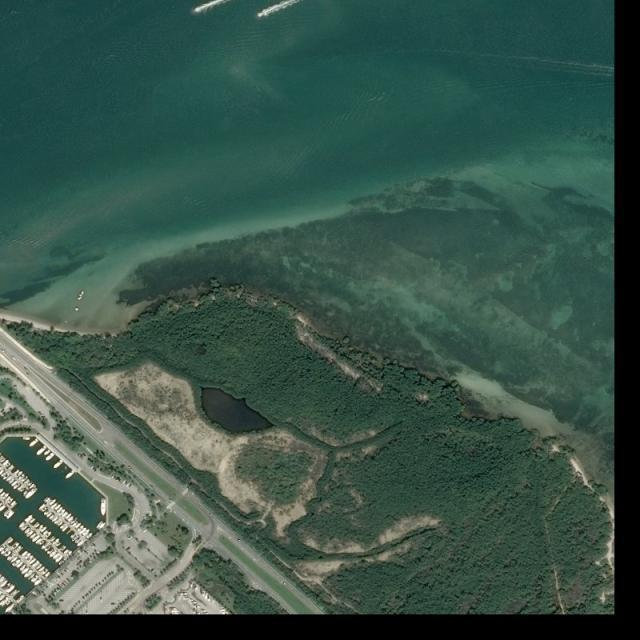ship: (26, 487, 38, 499), (36, 444, 46, 456), (5, 602, 14, 613), (1, 595, 9, 607), (6, 585, 15, 594), (101, 499, 106, 515), (24, 568, 32, 578), (1, 579, 9, 589), (49, 548, 57, 558), (29, 438, 38, 446), (16, 561, 24, 570), (10, 555, 18, 564), (7, 553, 15, 562), (1, 546, 9, 555), (16, 594, 24, 603), (24, 552, 32, 561), (58, 557, 67, 565), (66, 470, 74, 478), (34, 578, 42, 586), (13, 558, 21, 566), (21, 550, 29, 558), (77, 538, 85, 546), (60, 523, 68, 531), (46, 453, 55, 460), (1, 544, 8, 553), (31, 574, 38, 583), (32, 560, 41, 567), (15, 544, 22, 553), (54, 460, 62, 467), (26, 554, 33, 562), (33, 535, 41, 542), (54, 518, 62, 525), (6, 476, 14, 483), (6, 461, 13, 469), (3, 472, 10, 480), (2, 492, 10, 499), (30, 557, 36, 566), (22, 567, 29, 574), (38, 566, 45, 573), (55, 555, 62, 562), (42, 543, 49, 550), (36, 538, 43, 545), (19, 522, 26, 529), (39, 504, 46, 511), (83, 529, 90, 536), (51, 502, 58, 509), (16, 471, 23, 478), (8, 464, 15, 471), (26, 530, 34, 536), (55, 502, 61, 510), (21, 476, 29, 482), (44, 449, 50, 456), (42, 568, 48, 575), (36, 563, 42, 570), (54, 553, 60, 560), (48, 547, 54, 554), (25, 528, 32, 534), (53, 538, 59, 545), (80, 527, 86, 534), (13, 483, 20, 489), (70, 533, 78, 538), (72, 521, 80, 526), (50, 498, 55, 506), (193, 8, 199, 14), (30, 532, 36, 538), (64, 549, 70, 555), (72, 535, 78, 541), (52, 516, 58, 522), (49, 514, 55, 520), (75, 523, 81, 529), (71, 518, 77, 524), (68, 516, 74, 522), (29, 482, 35, 488), (24, 478, 30, 484), (12, 480, 18, 486), (14, 469, 20, 475), (46, 531, 51, 538), (41, 526, 46, 533), (86, 533, 93, 538), (18, 474, 26, 478), (22, 524, 27, 530), (66, 550, 72, 555), (58, 520, 63, 526), (45, 510, 51, 515), (78, 526, 83, 532), (62, 511, 67, 517), (60, 509, 66, 514), (57, 507, 62, 513), (7, 498, 13, 503), (75, 538, 82, 542), (257, 13, 262, 18), (38, 525, 43, 530), (30, 518, 35, 523), (66, 514, 71, 519), (11, 501, 16, 506), (1, 506, 6, 511), (17, 486, 23, 490), (34, 523, 38, 528)
